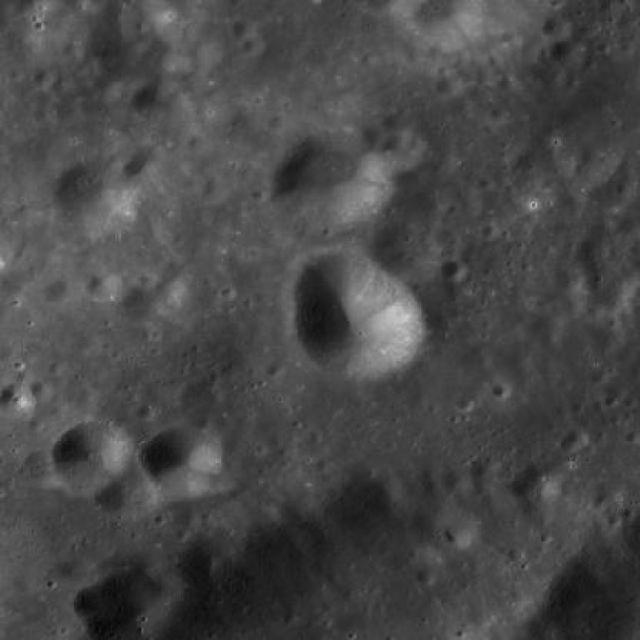crater: (287, 256, 424, 376), (272, 130, 391, 232), (94, 12, 188, 94), (52, 158, 142, 236), (140, 425, 225, 498), (51, 421, 132, 492), (366, 220, 440, 285), (94, 462, 160, 520), (357, 119, 423, 176), (413, 0, 482, 49), (133, 81, 190, 130), (169, 22, 222, 68), (76, 85, 126, 130), (19, 450, 64, 490), (120, 286, 162, 326), (512, 466, 556, 504), (591, 279, 631, 313), (126, 146, 166, 180), (56, 556, 95, 590), (144, 570, 182, 604), (0, 384, 35, 418), (528, 312, 564, 342), (85, 272, 121, 302), (552, 36, 586, 66), (576, 237, 610, 266), (552, 264, 585, 292), (151, 277, 184, 305), (0, 273, 28, 302), (467, 454, 498, 480), (46, 278, 76, 304), (208, 468, 238, 494), (200, 178, 229, 204), (542, 15, 570, 40), (443, 470, 471, 495), (441, 258, 467, 282), (434, 72, 460, 96), (444, 524, 470, 548), (230, 17, 256, 40), (598, 484, 624, 507), (576, 143, 602, 166), (614, 216, 640, 238), (171, 510, 197, 532), (385, 130, 410, 152), (243, 34, 266, 56), (382, 112, 406, 132), (561, 298, 584, 318), (50, 76, 73, 96), (34, 68, 57, 88), (30, 381, 53, 401), (64, 40, 86, 60), (182, 174, 204, 194), (565, 428, 587, 447), (498, 74, 518, 92), (268, 114, 288, 132), (136, 404, 156, 421), (138, 273, 156, 290), (492, 382, 510, 398), (480, 224, 498, 240), (490, 106, 508, 122), (416, 568, 434, 584)
